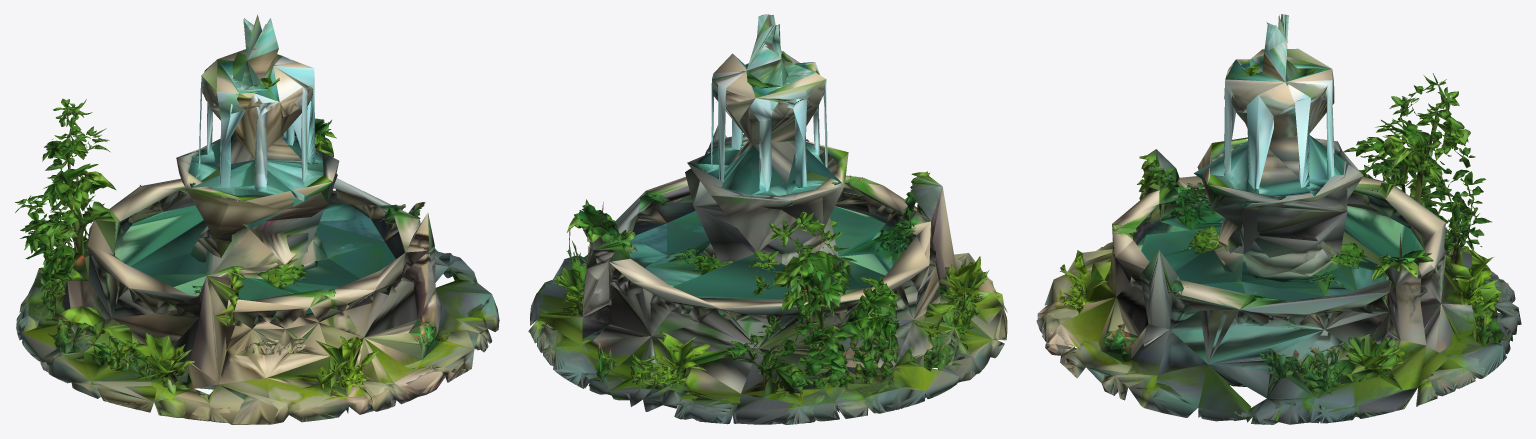
The model's file is Verdant_Cascade_Fount.glb.
The picture shows the model from 3 angles, left to right: view 1: azimuth 30°, elevation 25°; view 2: azimuth 150°, elevation 25°; view 3: azimuth 270°, elevation 25°; orthographic projection.
Visible parts, largest first — view 1: Verdant_Cascade_Fount; view 2: Verdant_Cascade_Fount; view 3: Verdant_Cascade_Fount.
Part boxes in pixels (left/top/right/bottom): Verdant_Cascade_Fount: left=15, top=14, right=499, bottom=424; Verdant_Cascade_Fount: left=528, top=14, right=1007, bottom=424; Verdant_Cascade_Fount: left=1036, top=14, right=1521, bottom=424.
Bounding box in the file's own units: 1.89 × 1.35 × 1.9.
1 material, 1 textured.
